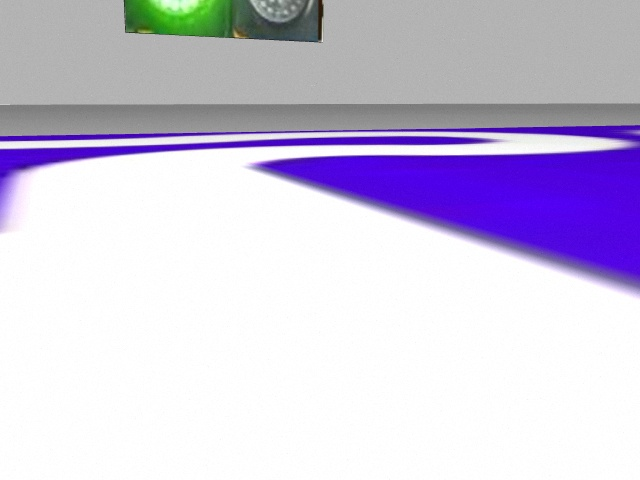green: (124, 1, 233, 40)
